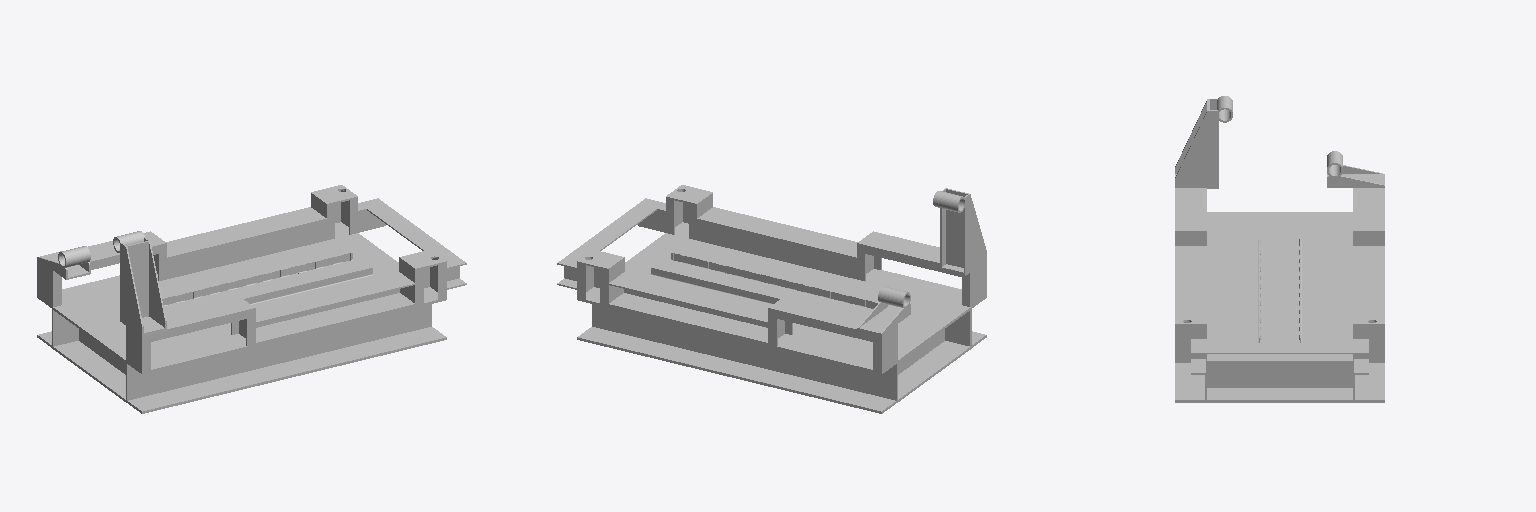
File: Rama_cns_stage2.obj
3 renders of one model, left to right at view 1: azimuth 30°, elevation 25°; view 2: azimuth 150°, elevation 25°; view 3: azimuth 270°, elevation 25°, orthographic.
Visible parts, largest first — view 1: imagetostl_mesh; view 2: imagetostl_mesh; view 3: imagetostl_mesh.
Boxes of the visible parts, box(x1,y1,x2,y2) form: imagetostl_mesh: box(37, 185, 466, 413); imagetostl_mesh: box(557, 185, 986, 413); imagetostl_mesh: box(1175, 96, 1384, 402).
Size of the model in its own units: 1909 by 868 by 1040.